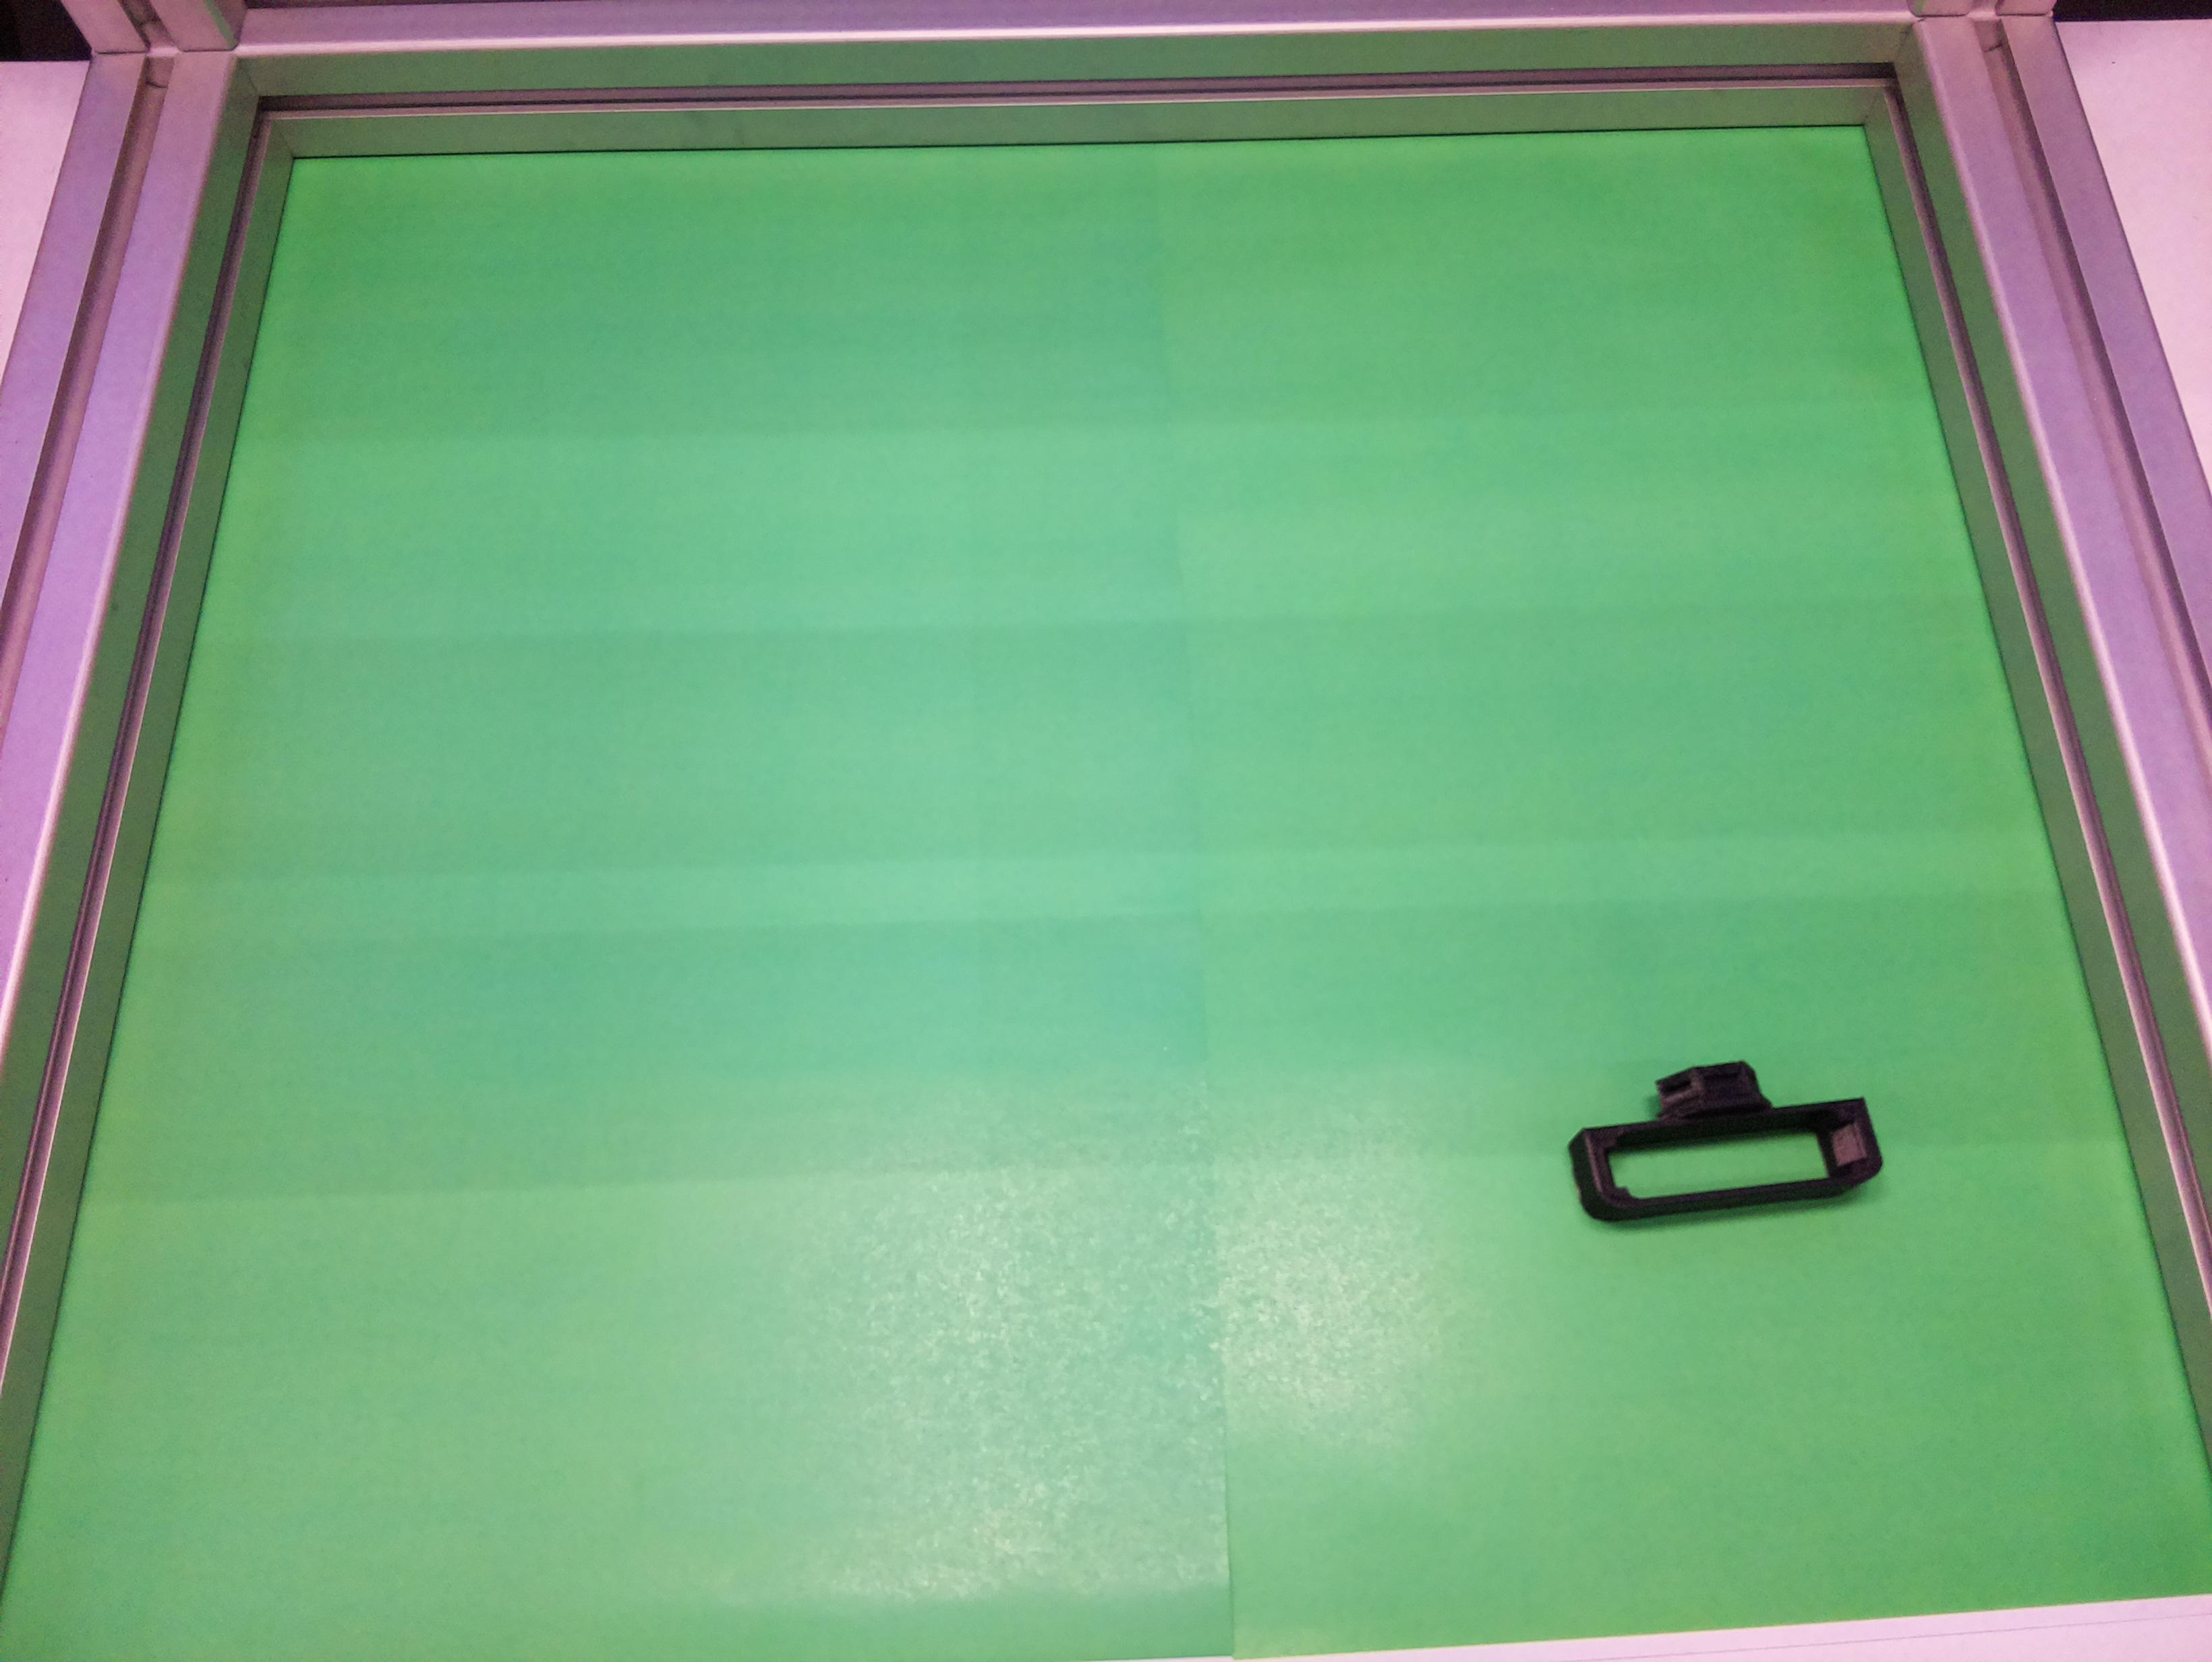cutter_holder: (1561, 1046, 1886, 1231)
